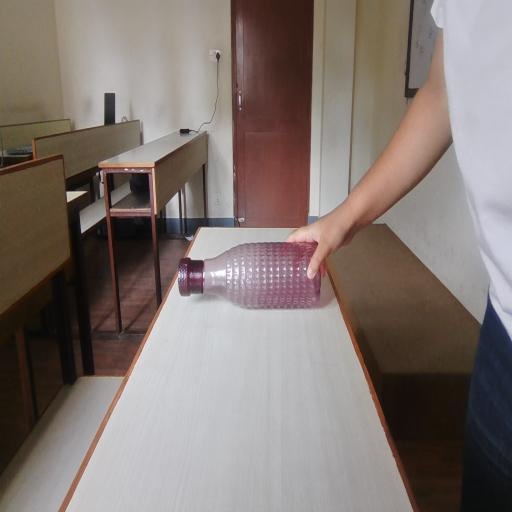Bottle: (167, 262, 339, 320)
